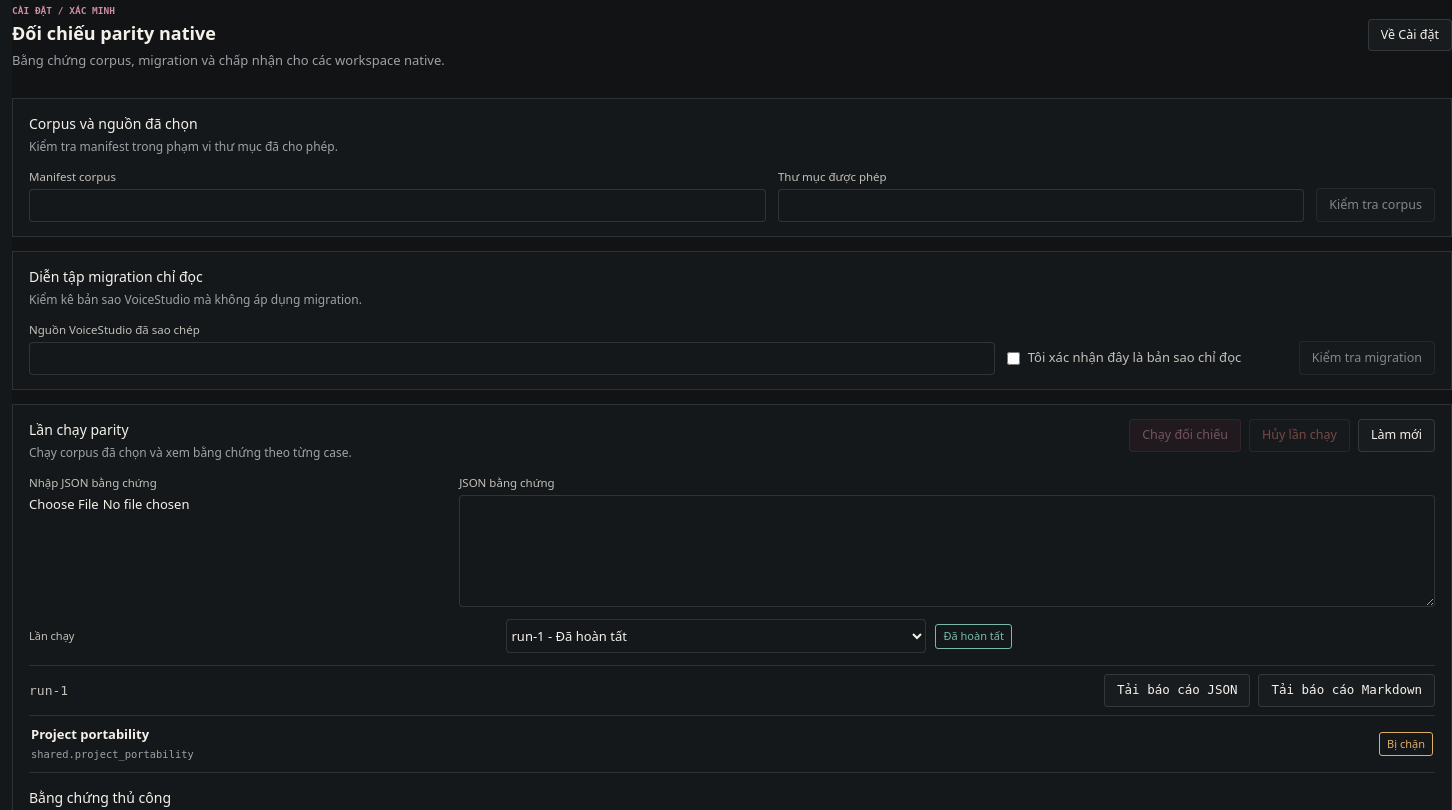
Test case: ParityPage › keeps an optional report error isolated from the visible run
Check: the text "Project portability" is shown, box 31,725 -> 149,743
Click the button "Tải báo cáo Markdown" at (1347, 691), box 1258,674 -> 1435,707
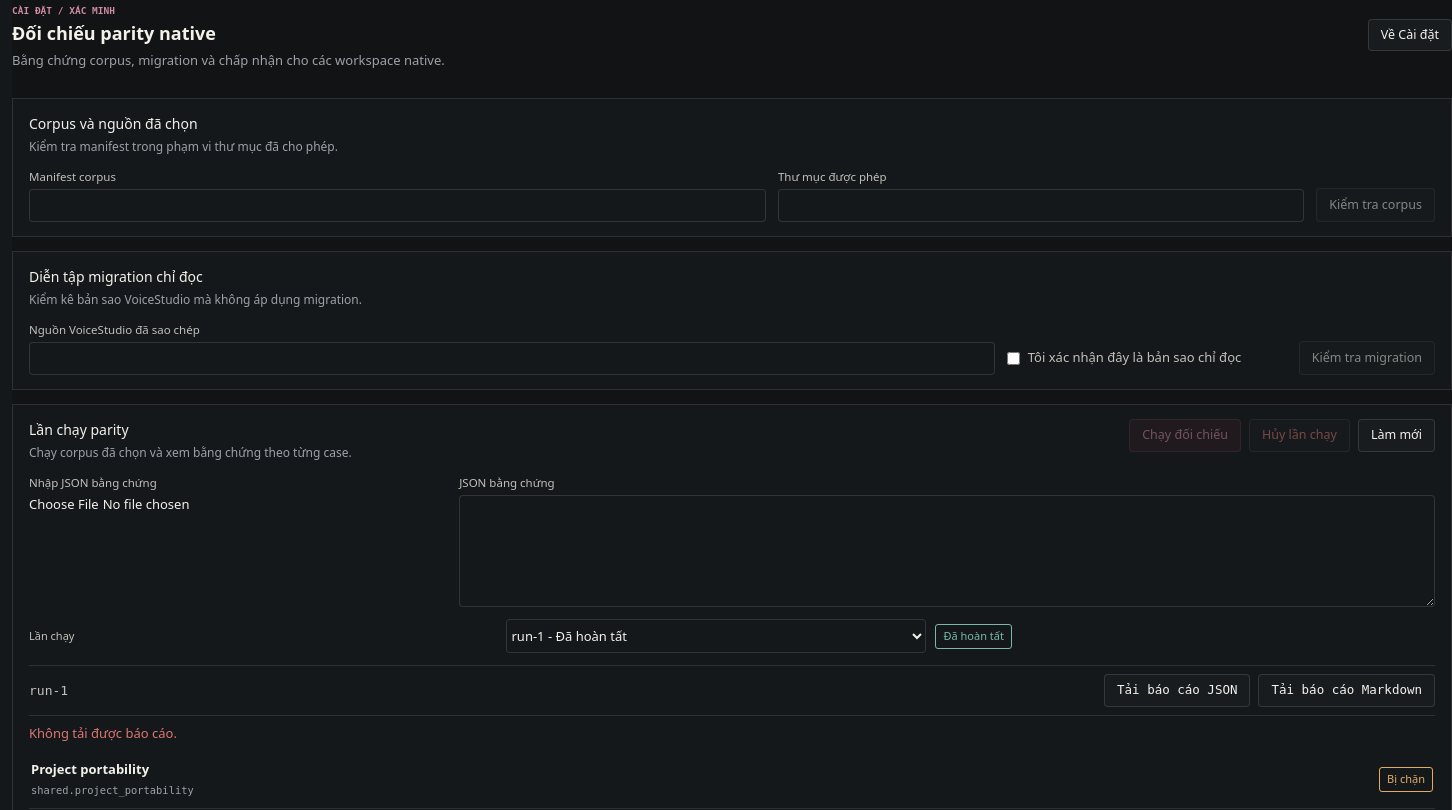
Check: the text "Project portability" is shown, box 31,760 -> 149,778
Check: the message shows "Không tải được báo cáo", box 29,724 -> 177,742
